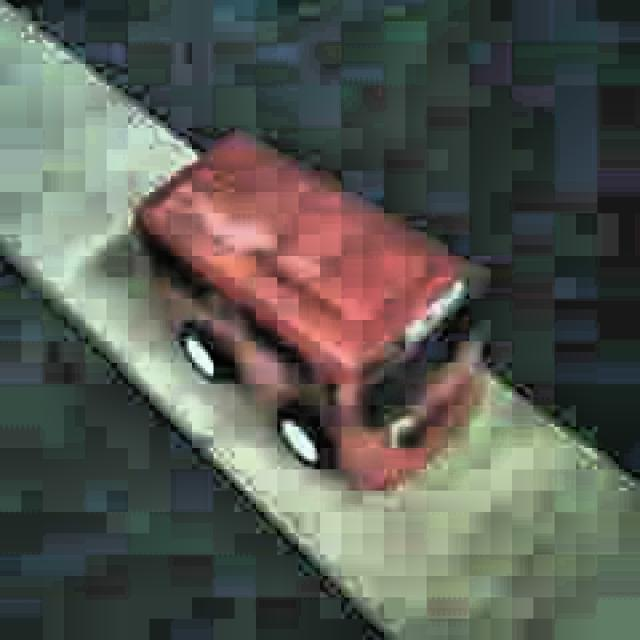bus: (133, 127, 487, 496)
